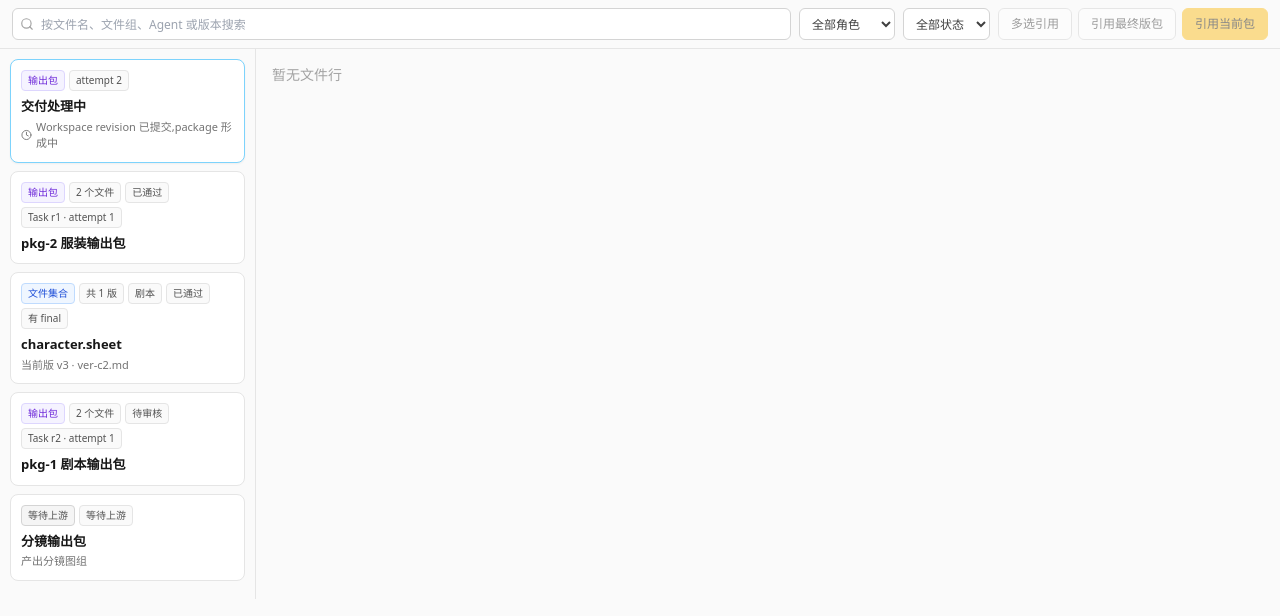
Test case: ProjectFilesBoard 左栏卡片与右栏表格 › 类型 / 阶段不暴露内部 deliverable 角色
Click the button "文件集合 共 1 版 剧本 已通过 有 final character.sheet 当前版 v3 · ver-c2.md".
click(128, 328)  # box [10, 272, 245, 384]
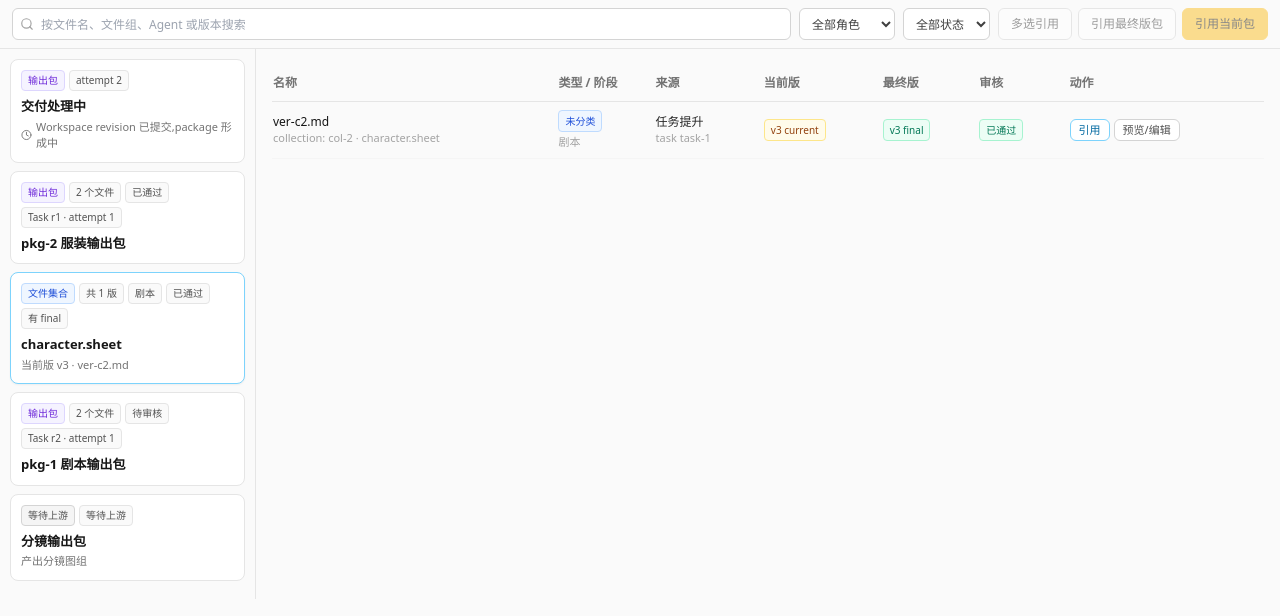
Result: the element that starts with "类型 / 阶段" shows "未分类" at [565, 114, 595, 128]
